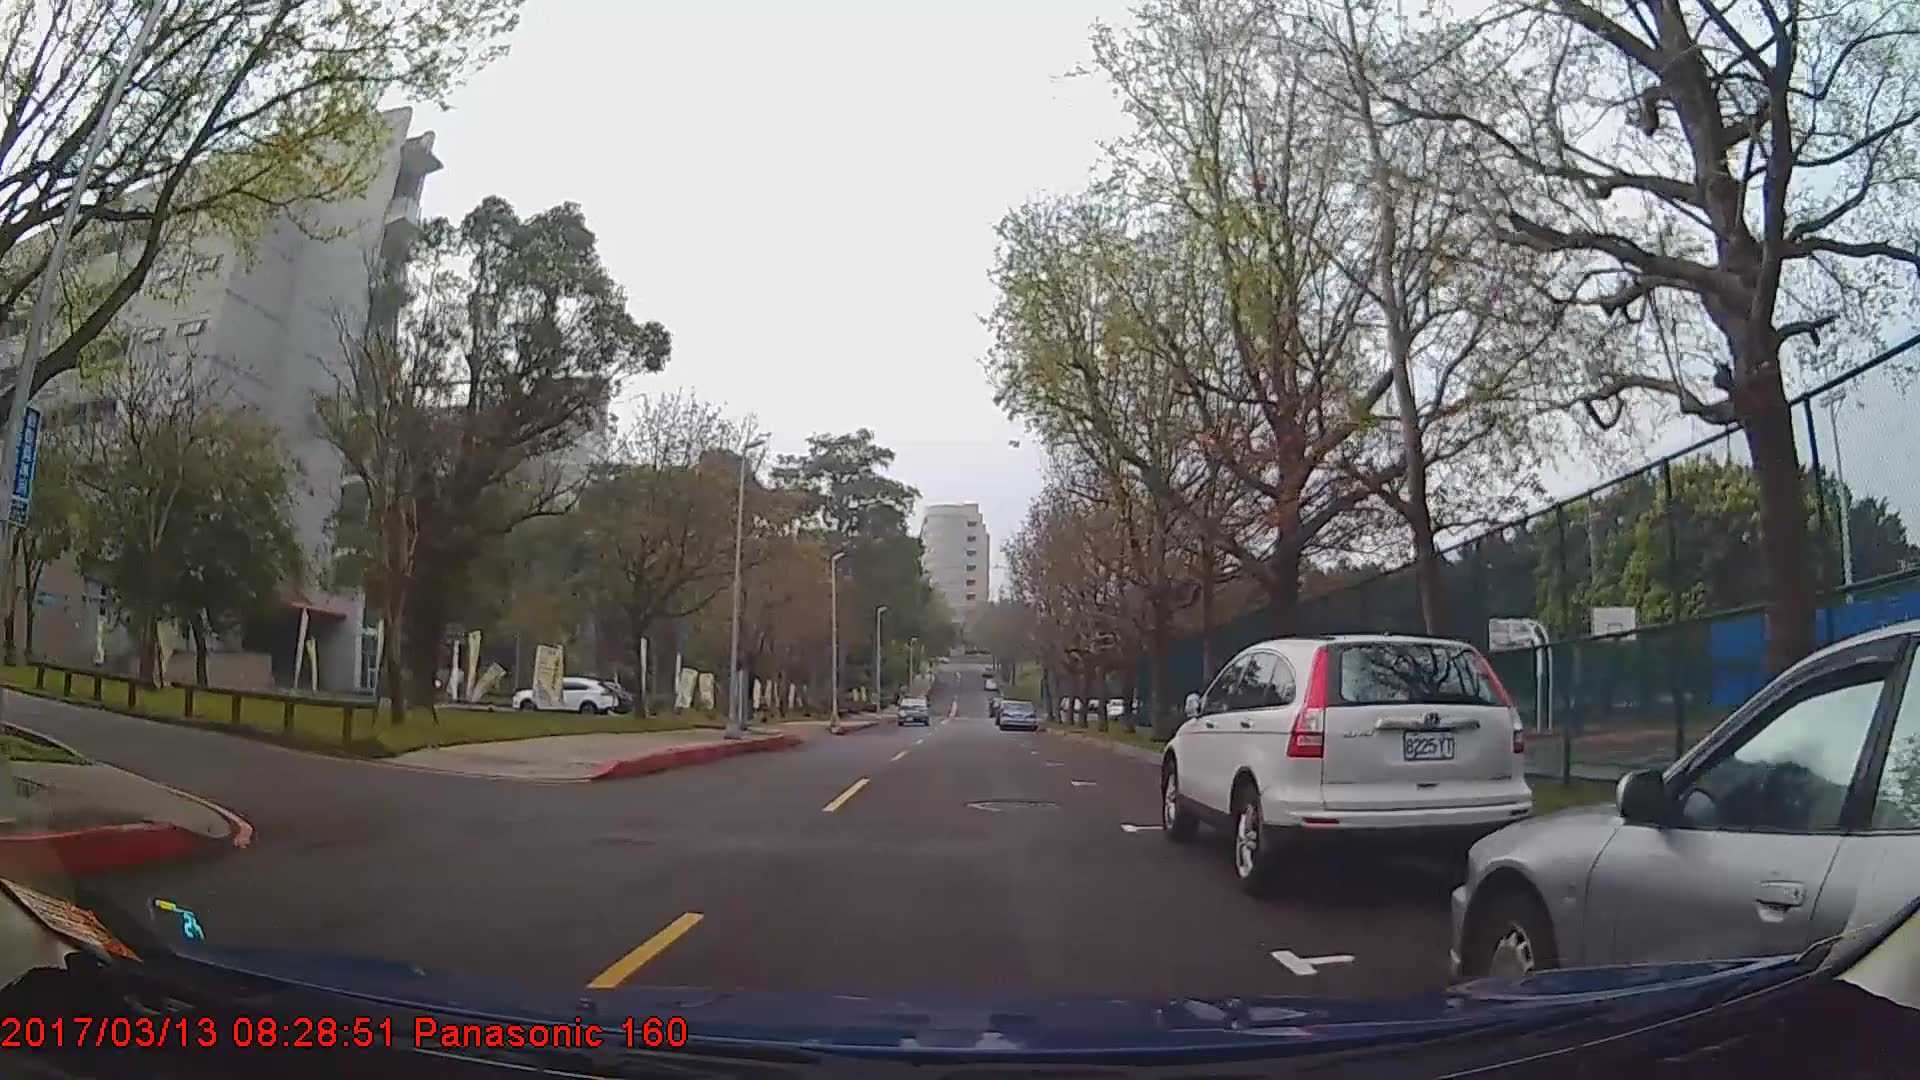vehicle: (1451, 618, 1917, 1018), (1158, 632, 1536, 880), (510, 675, 618, 715), (998, 698, 1038, 731), (895, 694, 932, 725)
